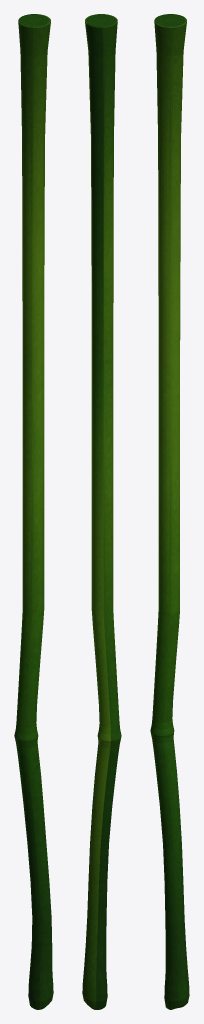
Rendered from rose_root.obj.
The picture shows the model from 3 angles, left to right: view 1: azimuth 30°, elevation 25°; view 2: azimuth 150°, elevation 25°; view 3: azimuth 330°, elevation 25°; orthographic projection.
Size of the model in its own units: 1.28 by 33.82 by 1.02.
Materials: 1 (1 with a texture image).
